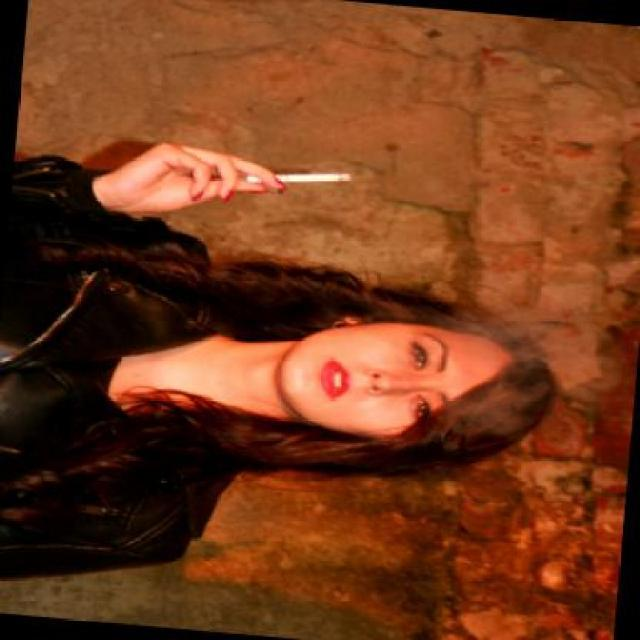cigarette: (105, 136, 353, 216)
